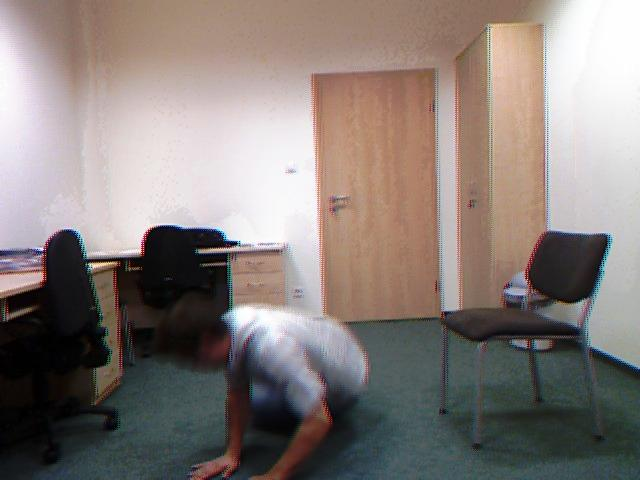fall: (156, 295, 369, 478)
